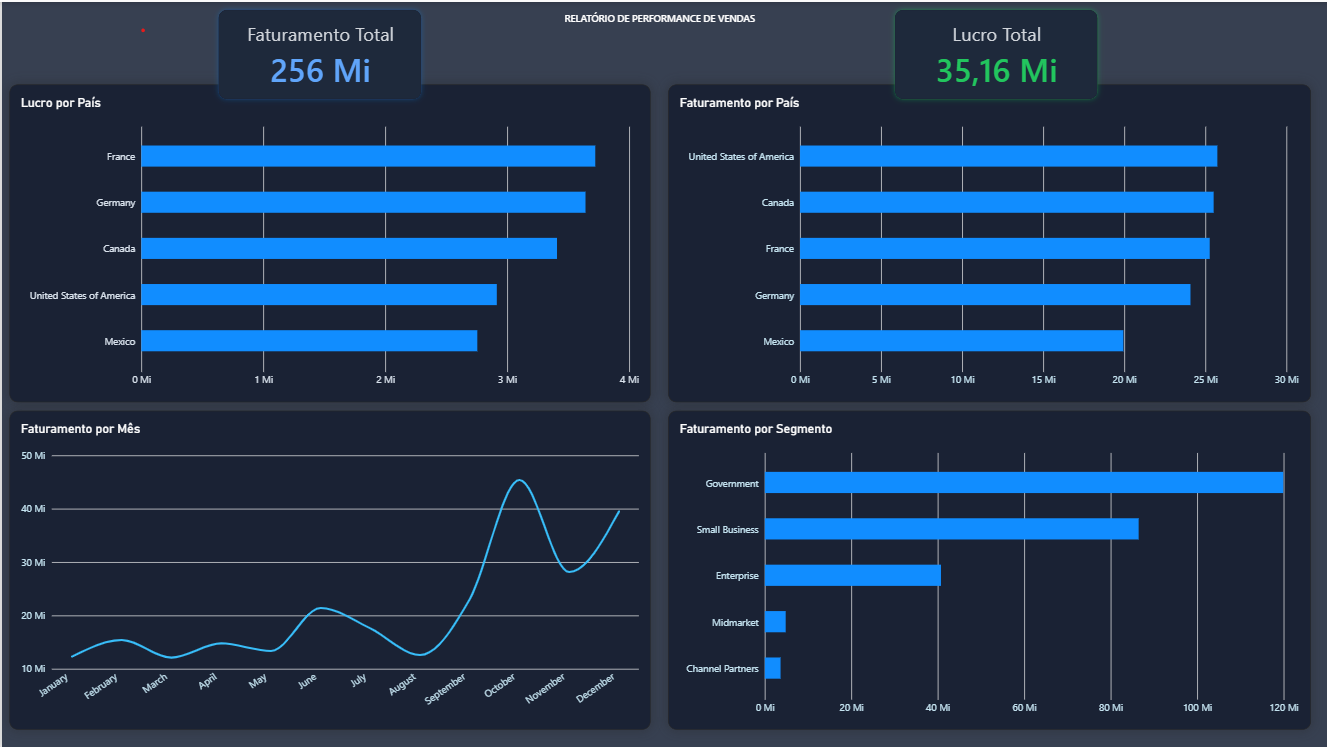

This screenshot's page, from the dashboard's own definition file:
{"tool":"powerbi","page":{"name":"Página 1","canvas":[1920,1080],"ordinal":0},"visuals":[{"type":"barChart","fields":{"Category":["Fato_vendas.Country"],"Y":["Fato_vendas.Faturamento Total"]},"box":[964.5,119.4,930.2,459.7],"z":0},{"type":"barChart","fields":{"Category":["Fato_vendas.Country"],"Y":["Fato_vendas.Lucro Total"]},"box":[10.9,119.4,928.4,459.7],"z":1000},{"type":"cardVisual","fields":{"Data":["Fato_vendas.Lucro Total","Fato_vendas.Lucro Total"]},"box":[1281.2,0,316.7,152],"z":2000},{"type":"cardVisual","fields":{"Data":["Fato_vendas.Faturamento Total"]},"box":[302.2,0,316.7,152],"z":3000},{"type":"lineChart","title":"Faturamento por Mês","fields":{"Category":["Fato_vendas.Month Name"],"Y":["Fato_vendas.Faturamento Total"]},"box":[10.9,591.8,928.4,461.5],"z":4000},{"type":"barChart","title":"Faturamento por Segmento","fields":{"Category":["Fato_vendas.Segment"],"Y":["Fato_vendas.Faturamento Total"]},"box":[964.5,591.8,930.2,461.5],"z":5000},{"type":"textbox","box":[814,14,314,38],"z":5001}]}

Visuals, with their boxes in screenshot pixels (x1, y1, x2, y2), scaled from the page's 1920x1080 canvas onto the 1327x747 screenshot:
barChart - Fato_vendas.Country x Fato_vendas.Faturamento Total: (x1=667, y1=83, x2=1310, y2=401)
barChart - Fato_vendas.Country x Fato_vendas.Lucro Total: (x1=8, y1=83, x2=649, y2=401)
cardVisual - Fato_vendas.Lucro Total x Fato_vendas.Lucro Total: (x1=885, y1=0, x2=1104, y2=105)
cardVisual - Fato_vendas.Faturamento Total: (x1=209, y1=0, x2=428, y2=105)
"Faturamento por Mês" lineChart: (x1=8, y1=409, x2=649, y2=729)
"Faturamento por Segmento" barChart: (x1=667, y1=409, x2=1310, y2=729)
textbox: (x1=563, y1=10, x2=780, y2=36)
